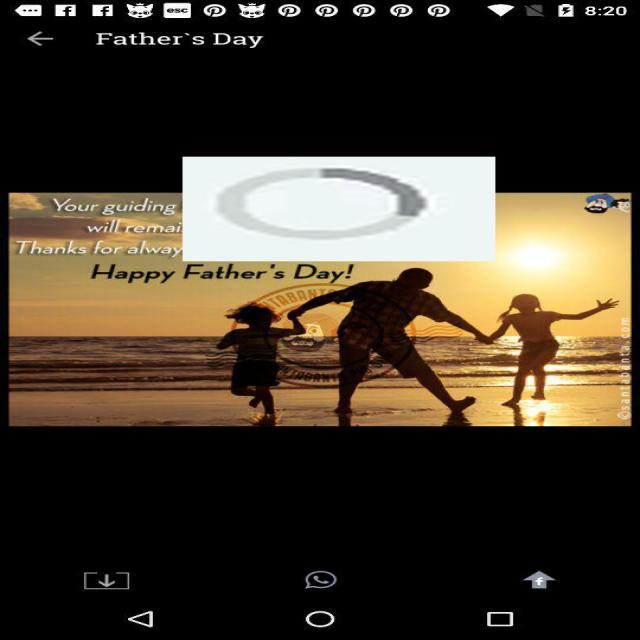misdirection: (182, 157, 496, 261)
